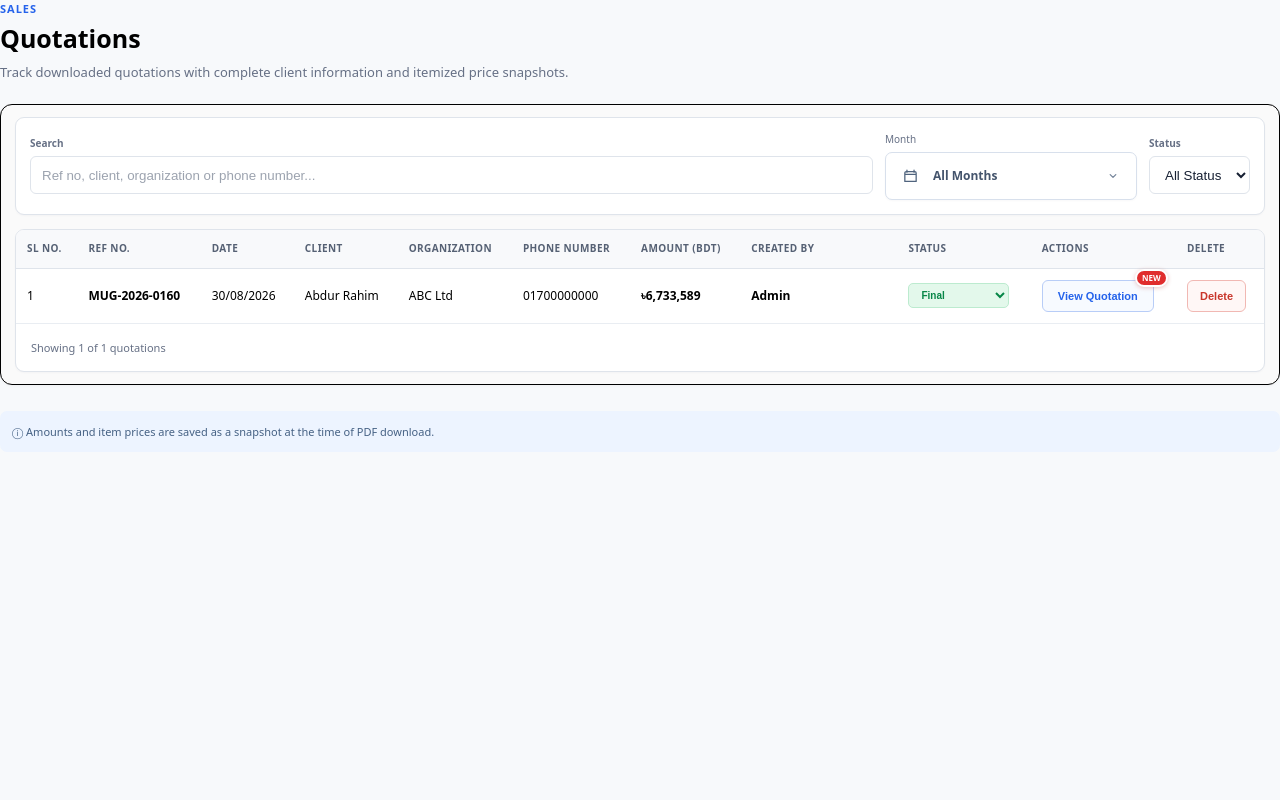
Test case: uses a centered confirmation modal before deleting a quotation
This screenshot has width=1280, height=800.
Click the button "Delete" at [1216, 296], box [1187,280,1246,312]
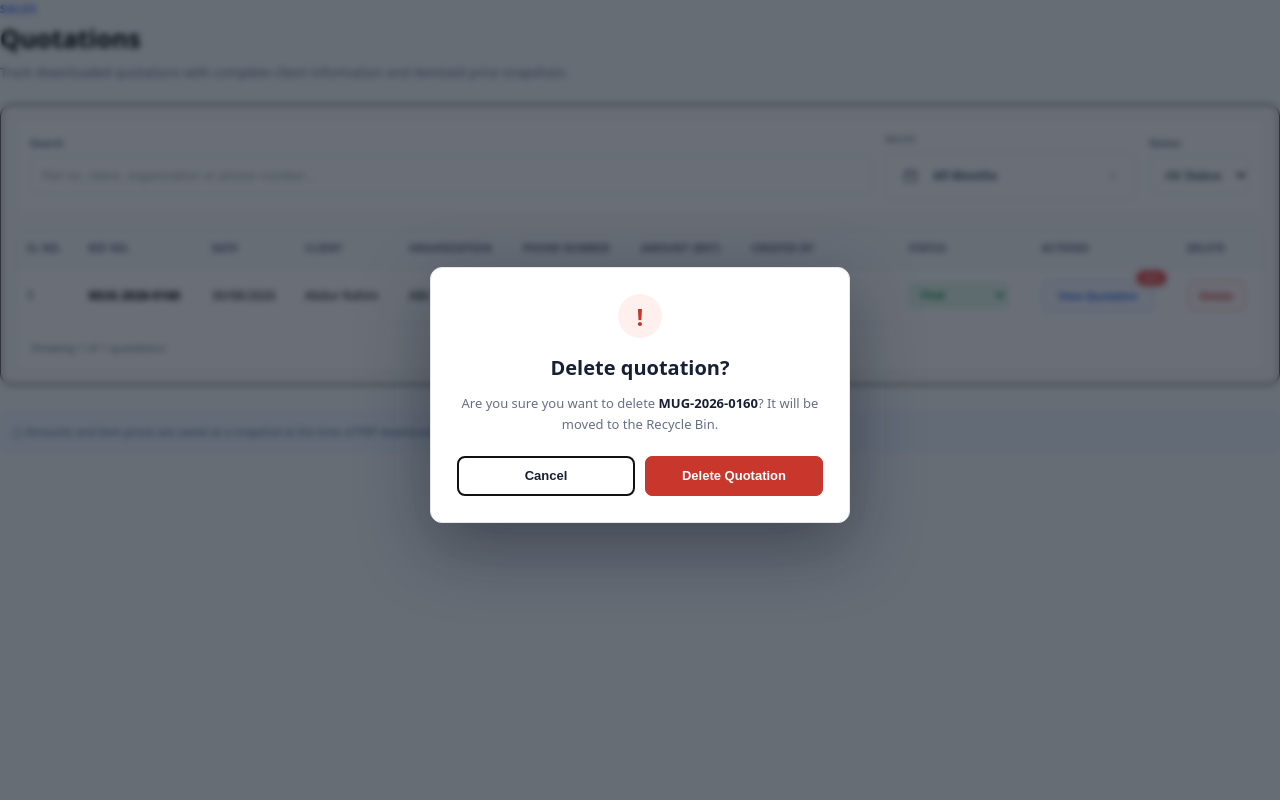
Expected: the text "MUG-2026-0160" is shown, [659,394,758,412]
Click the button "Cancel" at [546, 476], box [457,456,635,496]
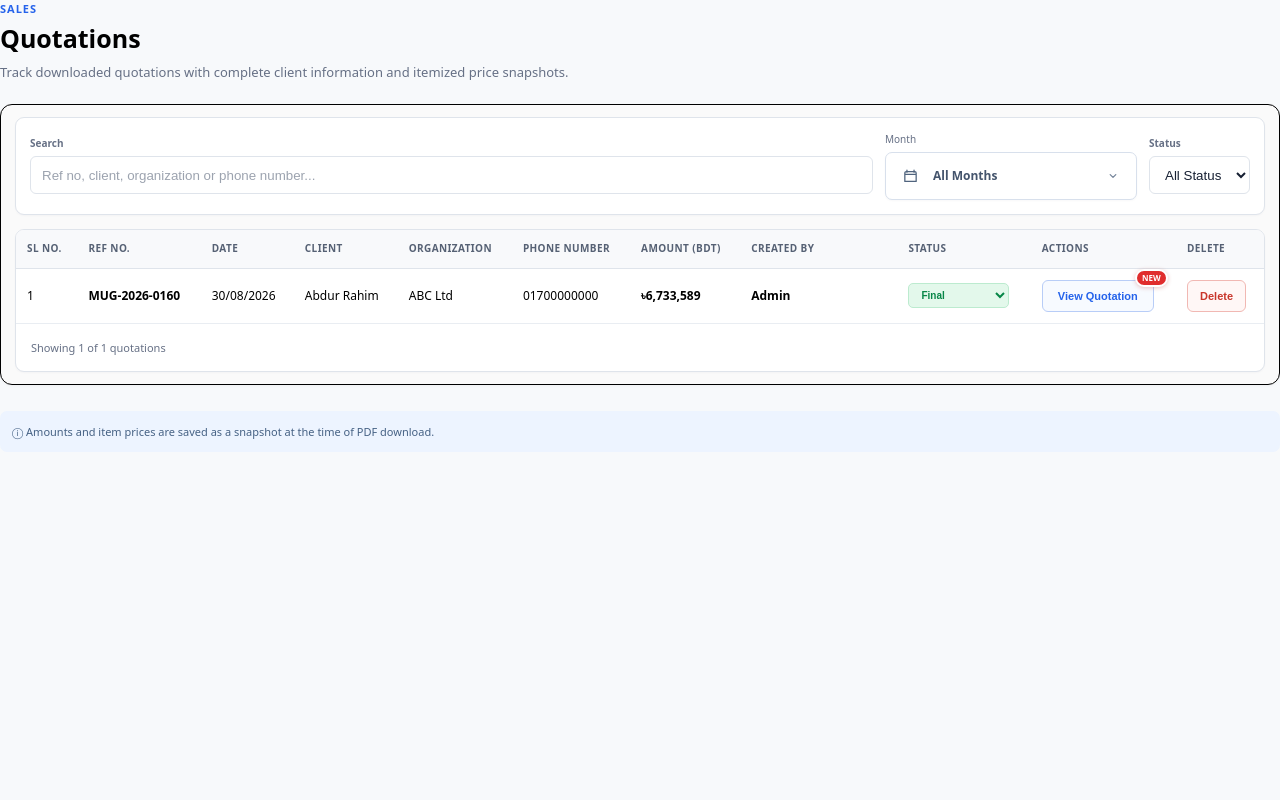
Expected: the heading "Delete quotation?" is gone
Click the button "Delete" at [1216, 296], box [1187,280,1246,312]
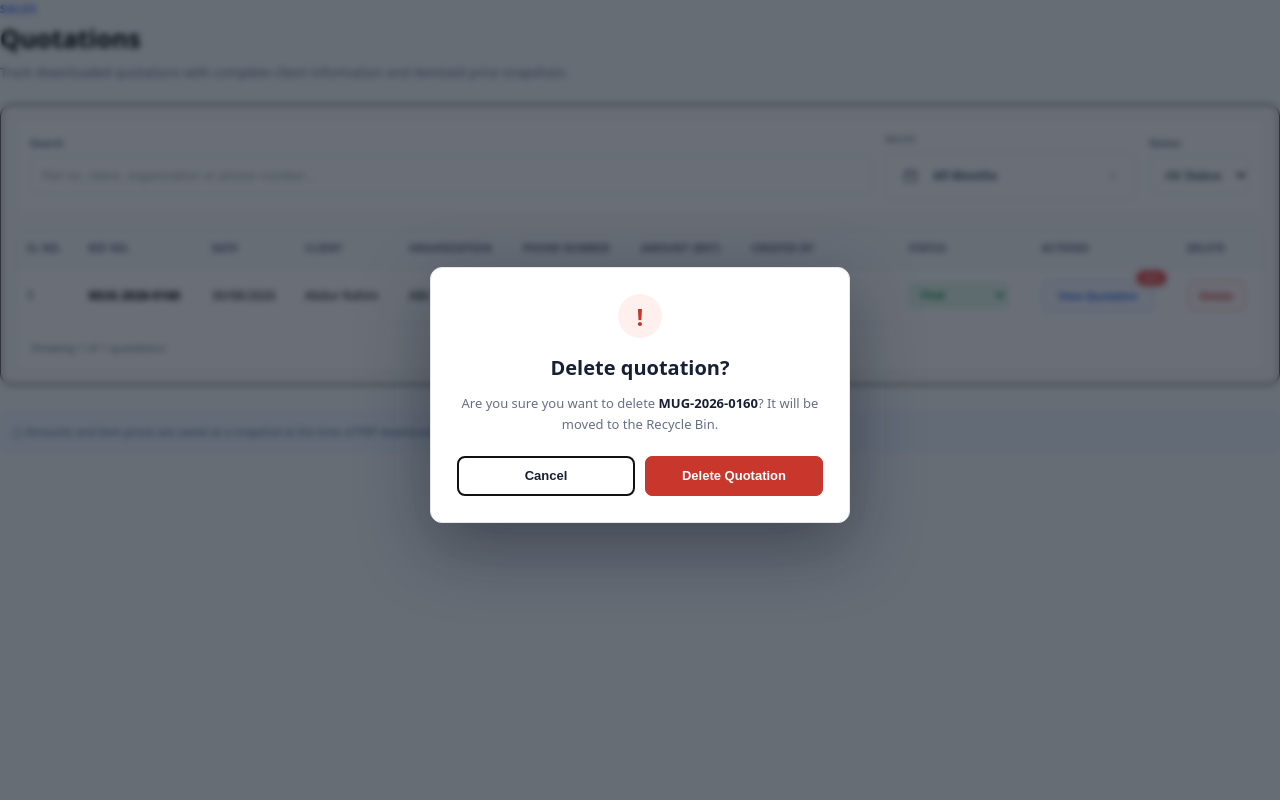
Click the button "Delete Quotation" at [734, 476], box [645,456,823,496]
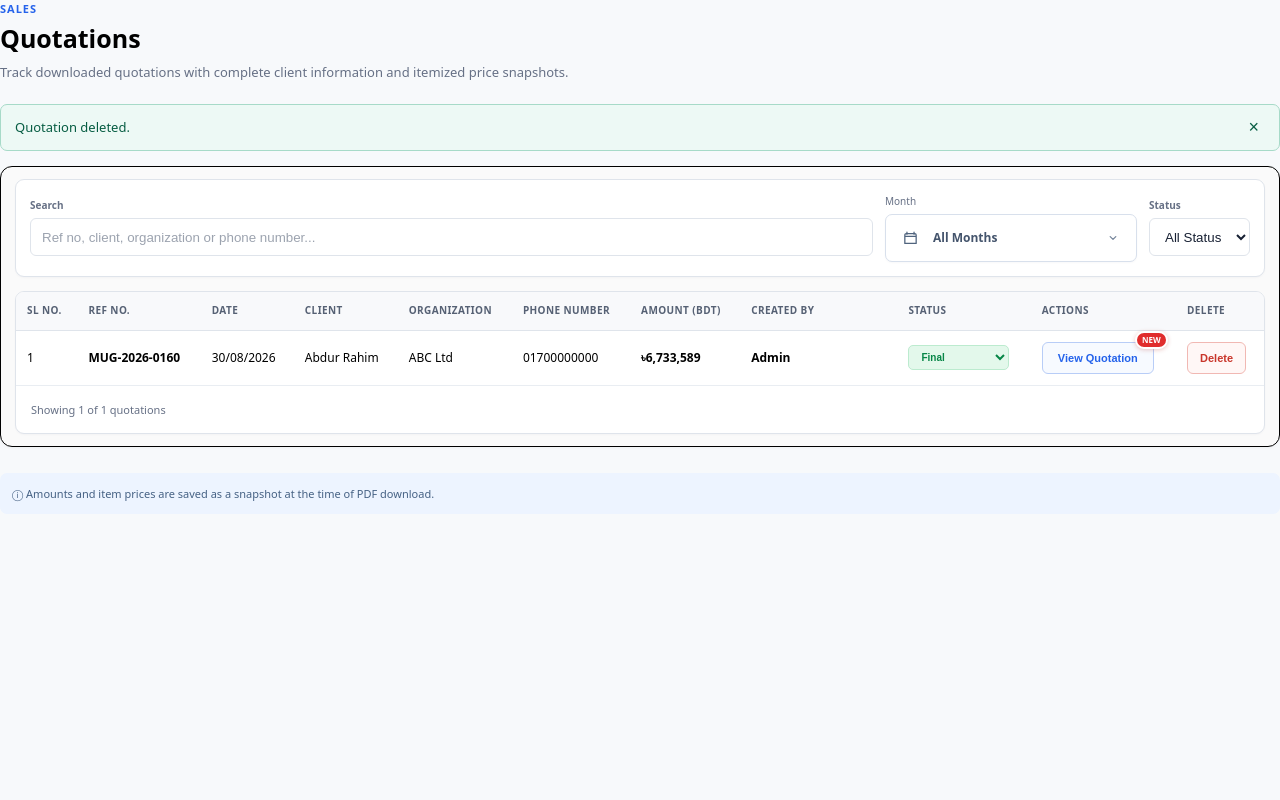
Expected: the heading "Delete quotation?" is gone
